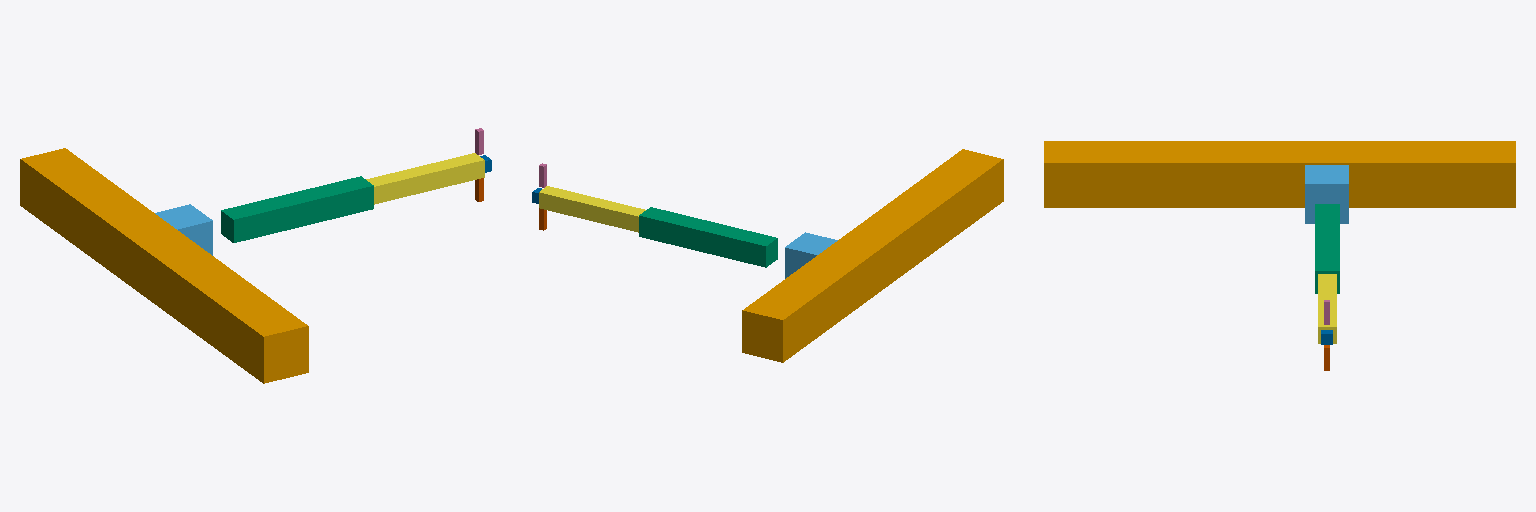
robot.urdf — mm_lift:
<?xml version="1.0"?>
<!-- Column-base arm with a vertical prismatic "torso" lift. The arm hangs from a
     carriage that slides up and down a tall fixed column, so the gripper can be
     lowered to the ground to pick an object and raised to carry it. The lift is a
     position (spring-damper) motor that holds the arm's weight against gravity; the
     tall jointed chain needs extra solver iterations to stay stable (see the sim). -->
<robot name="mm_lift">
  <link name="base_link">
    <visual>
      <origin xyz="0 0 0" rpy="0 0 0"/>
      <geometry>
        <box size="0.16 1.5 0.16"/>
      </geometry>
    </visual>
    <collision>
      <origin xyz="0 0 0" rpy="0 0 0"/>
      <geometry>
        <box size="0.16 1.5 0.16"/>
      </geometry>
    </collision>
  </link>

  <link name="torso_link">
    <visual>
      <origin xyz="0 0 0" rpy="0 0 0"/>
      <geometry>
        <box size="0.14 0.14 0.14"/>
      </geometry>
    </visual>
    <collision>
      <origin xyz="0 0 0" rpy="0 0 0"/>
      <geometry>
        <box size="0.14 0.14 0.14"/>
      </geometry>
    </collision>
  </link>

  <link name="upper_arm_link">
    <visual>
      <origin xyz="0.25 0 0" rpy="0 0 0"/>
      <geometry>
        <box size="0.5 0.08 0.08"/>
      </geometry>
    </visual>
    <collision>
      <origin xyz="0.25 0 0" rpy="0 0 0"/>
      <geometry>
        <box size="0.5 0.08 0.08"/>
      </geometry>
    </collision>
  </link>

  <link name="forearm_link">
    <visual>
      <origin xyz="0.2 0 0" rpy="0 0 0"/>
      <geometry>
        <box size="0.4 0.06 0.06"/>
      </geometry>
    </visual>
    <collision>
      <origin xyz="0.2 0 0" rpy="0 0 0"/>
      <geometry>
        <box size="0.4 0.06 0.06"/>
      </geometry>
    </collision>
  </link>

  <link name="gripper_base_link">
    <visual>
      <origin xyz="0 0 0" rpy="0 0 0"/>
      <geometry>
        <box size="0.06 0.04 0.04"/>
      </geometry>
    </visual>
    <collision>
      <origin xyz="0 0 0" rpy="0 0 0"/>
      <geometry>
        <box size="0.06 0.04 0.04"/>
      </geometry>
    </collision>
  </link>

  <link name="left_finger_link">
    <visual>
      <origin xyz="0 0 -0.04" rpy="0 0 0"/>
      <geometry>
        <box size="0.02 0.02 0.08"/>
      </geometry>
    </visual>
    <collision>
      <origin xyz="0 0 -0.04" rpy="0 0 0"/>
      <geometry>
        <box size="0.02 0.02 0.08"/>
      </geometry>
    </collision>
  </link>

  <link name="right_finger_link">
    <visual>
      <origin xyz="0 0 0.04" rpy="0 0 0"/>
      <geometry>
        <box size="0.02 0.02 0.08"/>
      </geometry>
    </visual>
    <collision>
      <origin xyz="0 0 0.04" rpy="0 0 0"/>
      <geometry>
        <box size="0.02 0.02 0.08"/>
      </geometry>
    </collision>
  </link>

  <joint name="lift_joint" type="prismatic">
    <parent link="base_link"/>
    <child link="torso_link"/>
    <origin xyz="0.15 0.15 0" rpy="0 0 0"/>
    <axis xyz="0 1 0"/>
  </joint>

  <joint name="shoulder_joint" type="revolute">
    <parent link="torso_link"/>
    <child link="upper_arm_link"/>
    <origin xyz="0.16 0 0" rpy="0 0 0"/>
    <axis xyz="0 1 0"/>
  </joint>

  <joint name="elbow_joint" type="revolute">
    <parent link="upper_arm_link"/>
    <child link="forearm_link"/>
    <origin xyz="0.5 0 0" rpy="0 0 0"/>
    <axis xyz="0 1 0"/>
  </joint>

  <joint name="gripper_base_joint" type="fixed">
    <parent link="forearm_link"/>
    <child link="gripper_base_link"/>
    <origin xyz="0.4 0 0" rpy="0 0 0"/>
  </joint>

  <joint name="left_finger_joint" type="revolute">
    <parent link="gripper_base_link"/>
    <child link="left_finger_link"/>
    <origin xyz="0 0 -0.04" rpy="0 0 0"/>
    <axis xyz="0 1 0"/>
  </joint>

  <joint name="right_finger_joint" type="revolute">
    <parent link="gripper_base_link"/>
    <child link="right_finger_link"/>
    <origin xyz="0 0 0.04" rpy="0 0 0"/>
    <axis xyz="0 1 0"/>
  </joint>
</robot>

--- Facts derived from the render (not from the file) ---
3 views of the same robot in one strip: view 1: azimuth 30°, elevation 25°; view 2: azimuth 150°, elevation 25°; view 3: azimuth 270°, elevation 25° (orthographic).
Robot: mm_lift — 7 links, 6 joints (4 revolute, 1 prismatic, 1 fixed); root link base_link; default pose: every joint at zero.
Visible links, largest first — view 1: base_link, upper_arm_link, forearm_link, torso_link; view 2: base_link, upper_arm_link, forearm_link, torso_link; view 3: base_link, torso_link, upper_arm_link, forearm_link.
Link boxes in pixels (x1,y1,x2,y2): base_link: (20, 148, 308, 383); upper_arm_link: (221, 176, 373, 242); forearm_link: (366, 153, 484, 204); torso_link: (155, 204, 212, 255); base_link: (742, 149, 1003, 362); upper_arm_link: (639, 207, 777, 267); forearm_link: (539, 186, 645, 232); torso_link: (785, 232, 837, 278); base_link: (1044, 141, 1515, 207); torso_link: (1305, 165, 1348, 223); upper_arm_link: (1315, 204, 1339, 293); forearm_link: (1318, 274, 1336, 343).
Size in the robot's own frame: 1.32 by 1.5 by 0.24 metres.
Geometry: primitives only (box / cylinder / sphere), no mesh files.
